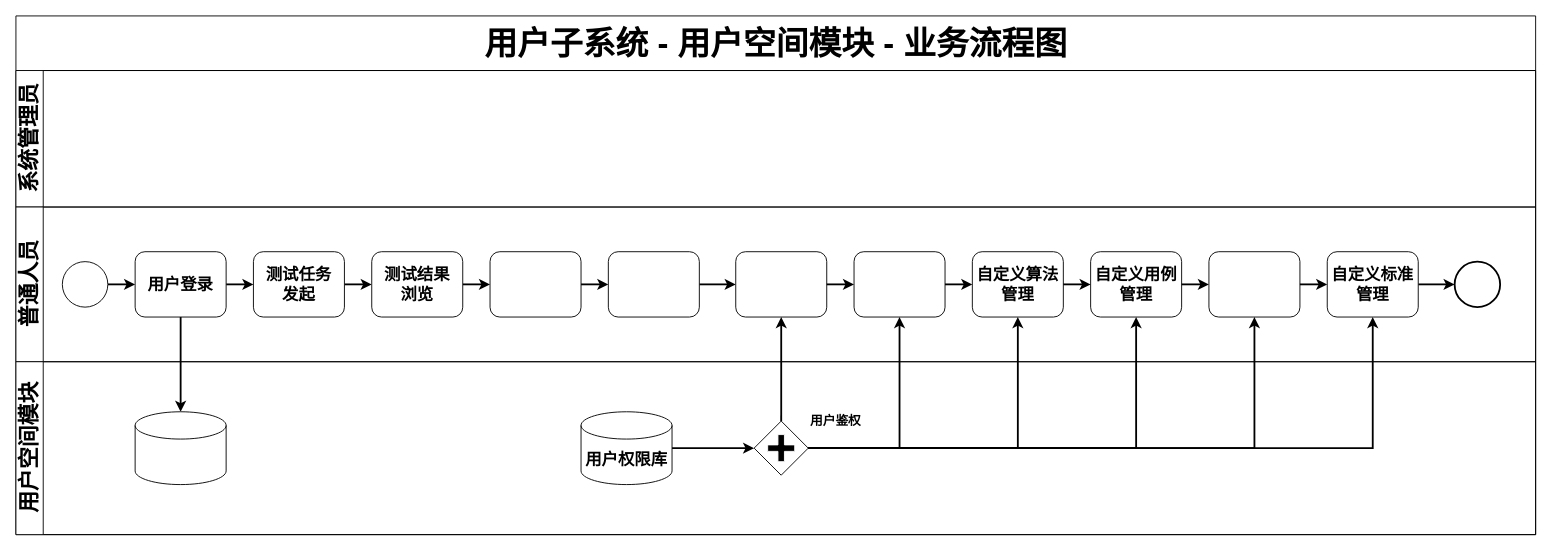
This 1552x551 diagram has some shape labels left out. Here are the shapes that lost their labels. From the top down, the centre of each, then its label:
At [535,284]: "测试结果 管理".
At [653,284]: "测试任务 管理".
At [781,284]: "自定义方案 管理".
At [899,284]: "自定义工具 管理".
At [1254,284]: "自定义模型 管理".
At [180,448]: "用户信息库".
